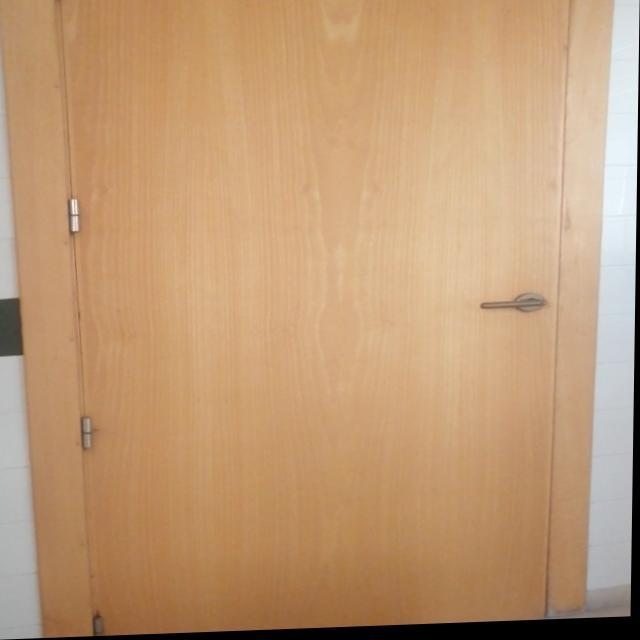door_handle: (473, 304, 548, 315)
